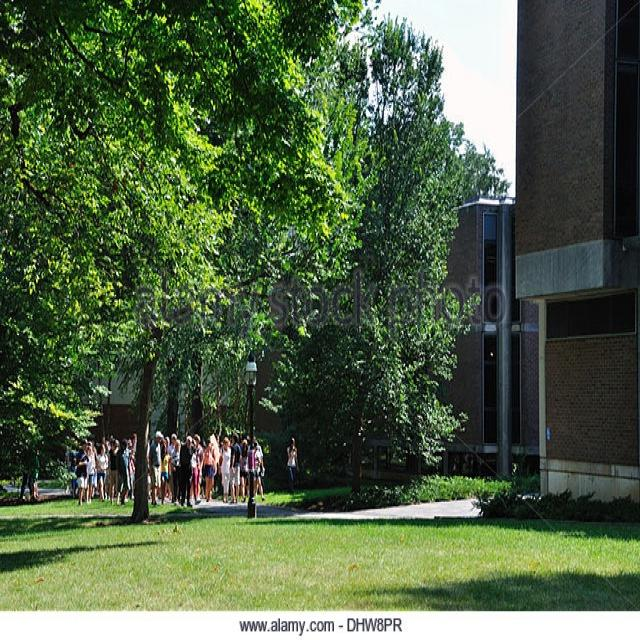body: (177, 433, 194, 509), (148, 430, 164, 506), (114, 438, 131, 504), (106, 438, 122, 504), (201, 439, 217, 502), (251, 441, 267, 502), (218, 436, 232, 505), (188, 437, 202, 506), (231, 433, 244, 505), (159, 443, 173, 505), (95, 441, 109, 502), (161, 436, 174, 499), (244, 443, 257, 505), (170, 439, 182, 506), (286, 436, 299, 496), (193, 433, 205, 498), (28, 444, 41, 500), (238, 437, 249, 502), (69, 442, 80, 499), (87, 444, 97, 505), (166, 433, 178, 457), (126, 440, 134, 466), (101, 434, 113, 450), (130, 433, 138, 456), (86, 434, 95, 450), (80, 440, 88, 456)
